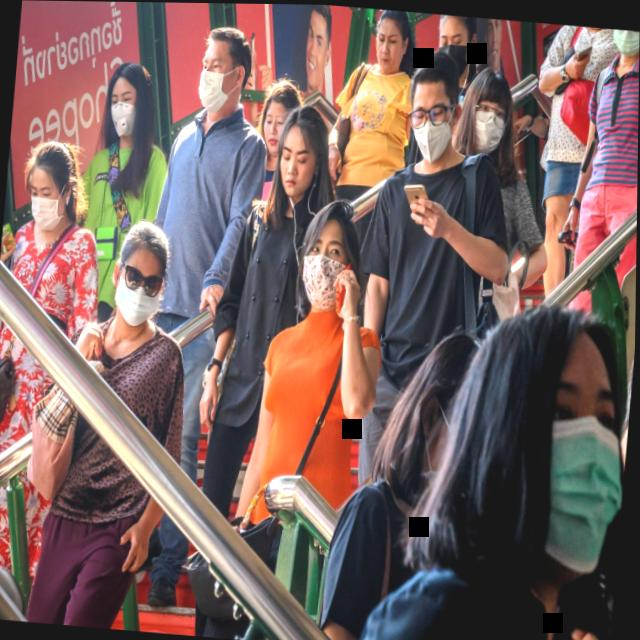Mask: (455, 296, 637, 586), (292, 191, 371, 329), (105, 211, 182, 333), (398, 43, 470, 172), (19, 125, 88, 237), (455, 56, 523, 166), (193, 16, 258, 126), (102, 50, 162, 148), (604, 26, 640, 60)
NO-Mask: (271, 94, 338, 207), (254, 66, 311, 164), (368, 8, 415, 75), (431, 13, 483, 73)
